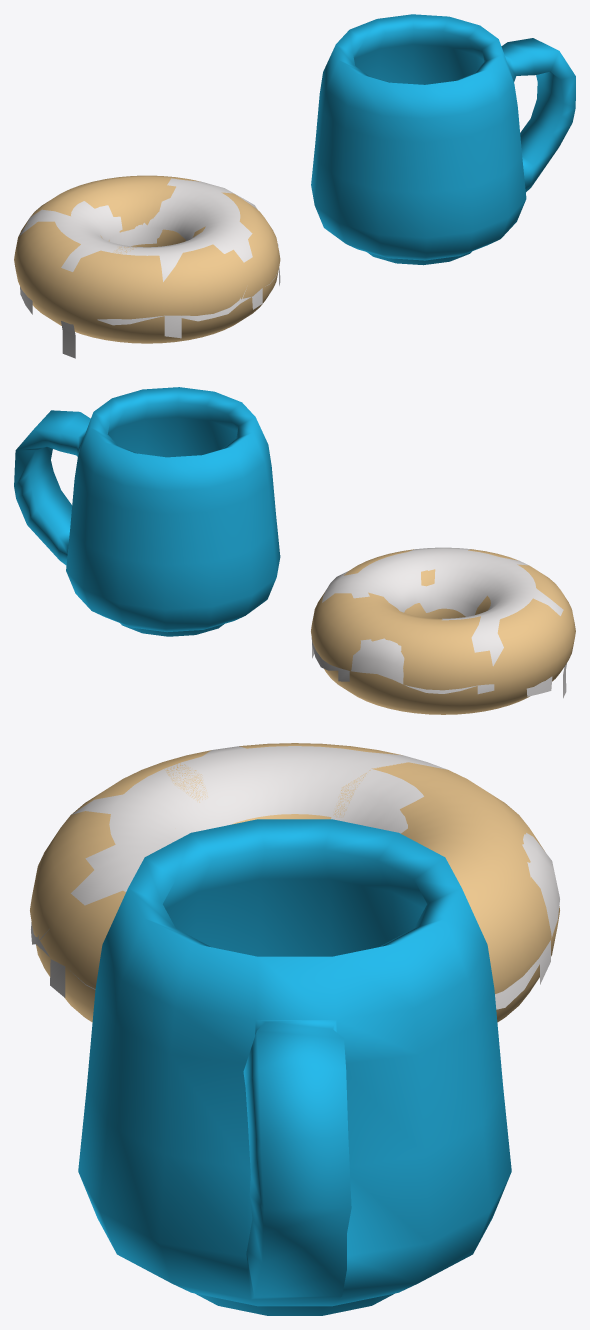
Rendered from FinalProject1.glb.
The picture shows the model from 3 angles, top to bottom: view 1: azimuth 30°, elevation 25°; view 2: azimuth 150°, elevation 25°; view 3: azimuth 270°, elevation 25°; orthographic projection. The views are drawn at different scales.
Parts seen in each view (by area): view 1: Mug, Donut, Icing; view 2: Mug, Donut, Icing; view 3: Mug, Donut, Icing.
Part boxes in pixels (x1,y1,x2,y2): Mug: [311, 14, 575, 265]; Donut: [14, 175, 280, 343]; Icing: [19, 178, 280, 358]; Mug: [14, 387, 280, 636]; Donut: [311, 549, 575, 714]; Icing: [311, 547, 566, 698]; Mug: [78, 819, 511, 1315]; Donut: [30, 743, 559, 1022]; Icing: [31, 746, 559, 1009].
Size of the model in its own units: 0.7295 by 0.2601 by 0.314.
